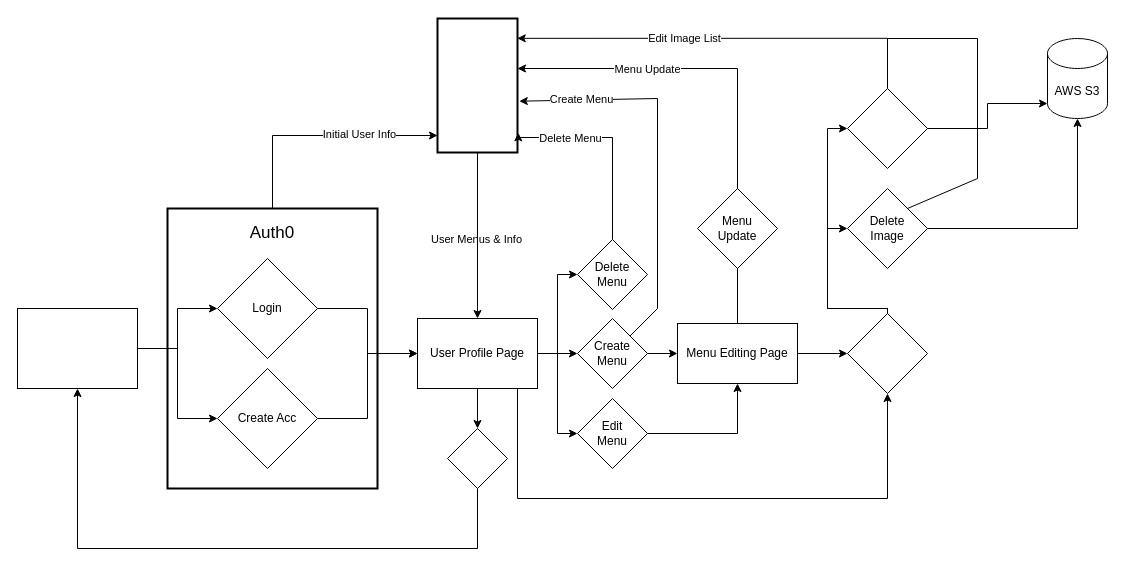
This 1125x574 diagram has some shape labels left out. Here are the shapes that lost their labels. From the top down, the centre of each, then its label:
At (x=477, y=85): "MongoDB".
At (x=887, y=128): "Upload Image".
At (x=77, y=348): "Homepage".
At (x=887, y=353): "Gallery".
At (x=477, y=458): "Logout".
